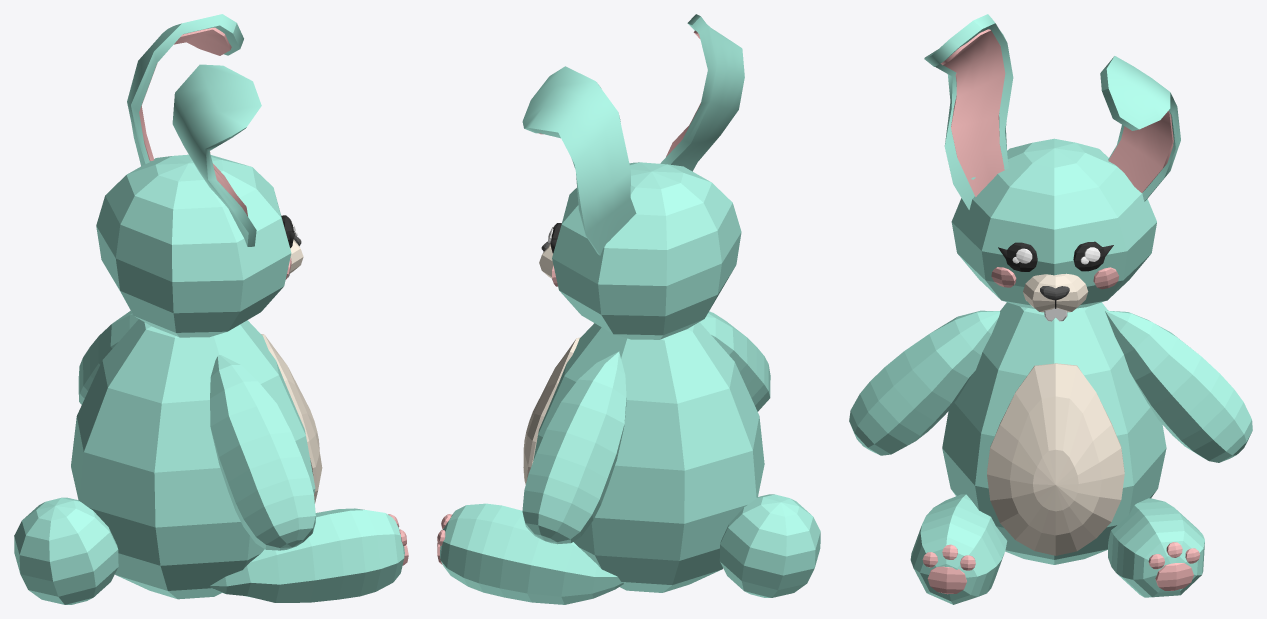
The model's file is peluche-conejo.glb.
3 renders of one model, left to right at view 1: azimuth 30°, elevation 25°; view 2: azimuth 150°, elevation 25°; view 3: azimuth 270°, elevation 25°, orthographic. The views are drawn at different scales.
Parts seen in each view (by area): view 1: pSphere20; view 2: pSphere20; view 3: pSphere20.
Part boxes in pixels (left/top/right/bottom): pSphere20: left=14, top=14, right=408, bottom=604; pSphere20: left=437, top=14, right=820, bottom=604; pSphere20: left=849, top=14, right=1252, bottom=604.
Size of the model in its own units: 0.0281 by 0.0454 by 0.0316.
